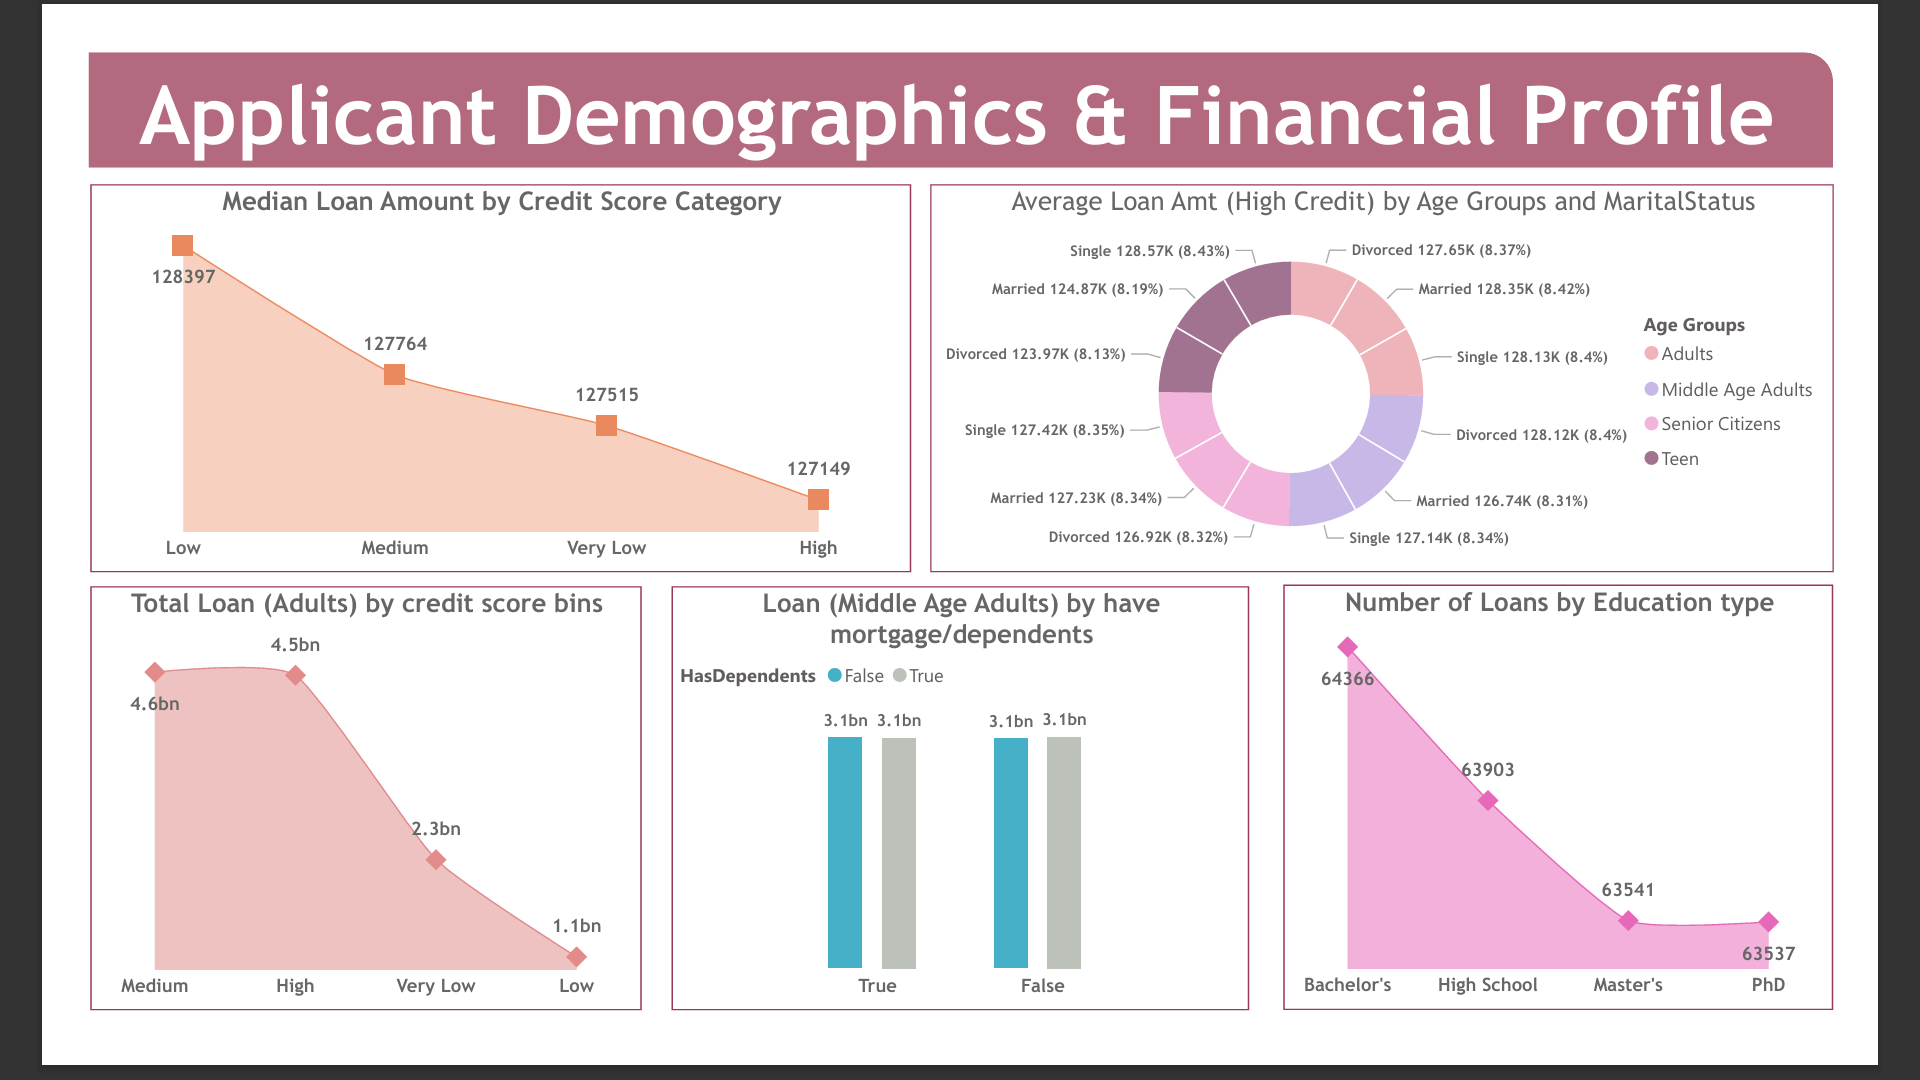

The dashboard page shown, as its layout file describes it:
{"tool":"powerbi","page":{"name":"Applicants Demographic & Financial Profile","canvas":[1280,720],"ordinal":1},"visuals":[{"type":"shape","box":[8.6,0,1259.5,99],"z":0},{"type":"lineChart","title":"Median Loan Amount By Credit Score Category","fields":{"Y":["Measure 2.Median By Credit Score Bins"],"Category":["Loan_default.Credit Score Bins"]},"box":[8.6,111.3,634.7,286.1],"z":1000},{"type":"donutChart","fields":{"Y":["Measure 2.Average Loan Amount (High Credit)"],"Series":["Loan_default.MaritalStatus"],"Category":["Loan_default.Age Group"]},"box":[653,111.3,615.1,286.1],"z":2000},{"type":"lineChart","title":"Total Loan (Adults) By Credit Score Bins","fields":{"Y":["Measure 2.Total Loan (Credit Bins)"],"Category":["Loan_default.Credit Score Bins"]},"box":[8.6,407.2,420.7,293.5],"z":3000},{"type":"clusteredColumnChart","title":"Loan (Middle Age Adults) By have mortage/dependants","fields":{"Y":["Measure 2.Total Loan (Middle Age Order)"],"Category":["Loan_default.HasMortgage"],"Series":["Loan_default.HasDependents"]},"box":[440.2,406,399.9,294.7],"z":4000},{"type":"lineChart","title":"Number Of Loans By Education Type","fields":{"Y":["Measure 2.Loan By Education Type"],"Category":["Loan_default.EmploymentType"]},"box":[852.3,407.2,428,293.5],"z":4001}]}

Visuals, with their boxes in screenshot pixels (x1, y1, x2, y2), scaled from the page's 1280x720 canvas onto the 1920x1080 screenshot:
shape: [13,0,1902,148]
"Median Loan Amount By Credit Score Category" lineChart: [13,167,965,596]
donutChart - Measure 2.Average Loan Amount (High Credit) x Loan_default.MaritalStatus: [980,167,1902,596]
"Total Loan (Adults) By Credit Score Bins" lineChart: [13,611,644,1051]
"Loan (Middle Age Adults) By have mortage/dependants" clusteredColumnChart: [660,609,1260,1051]
"Number Of Loans By Education Type" lineChart: [1278,611,1919,1051]
